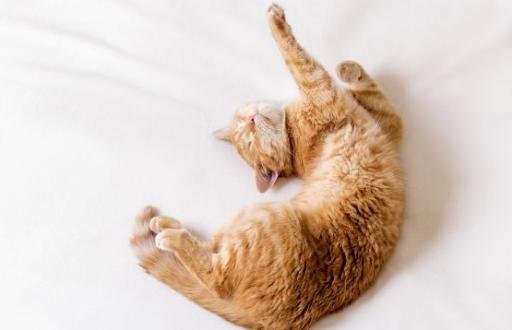cat_sleeping: (131, 6, 404, 328)
